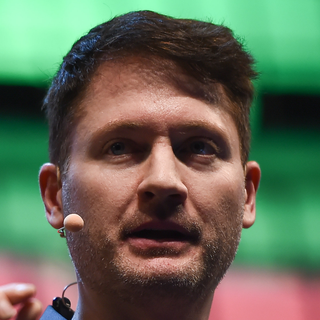eye: (95, 136, 143, 162), (181, 138, 223, 164)
